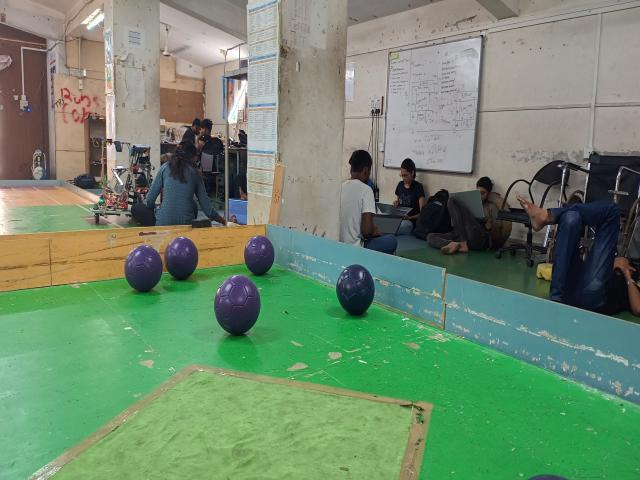jambhalya: (214, 275, 260, 335), (125, 245, 162, 292), (165, 237, 199, 280), (244, 235, 275, 275)
kaalyya: (336, 265, 375, 315)
